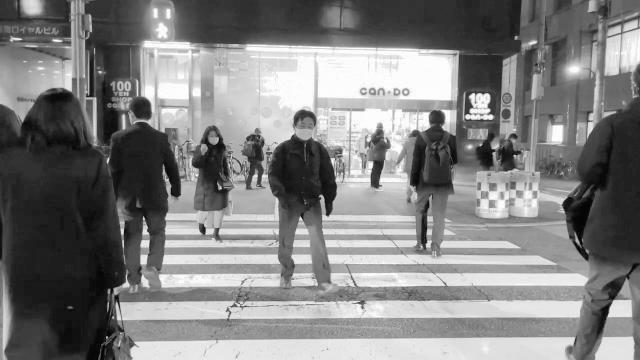berjalan: (8, 90, 126, 360), (562, 65, 640, 360), (270, 107, 348, 295), (110, 98, 182, 300), (410, 102, 458, 262), (194, 121, 236, 248)
